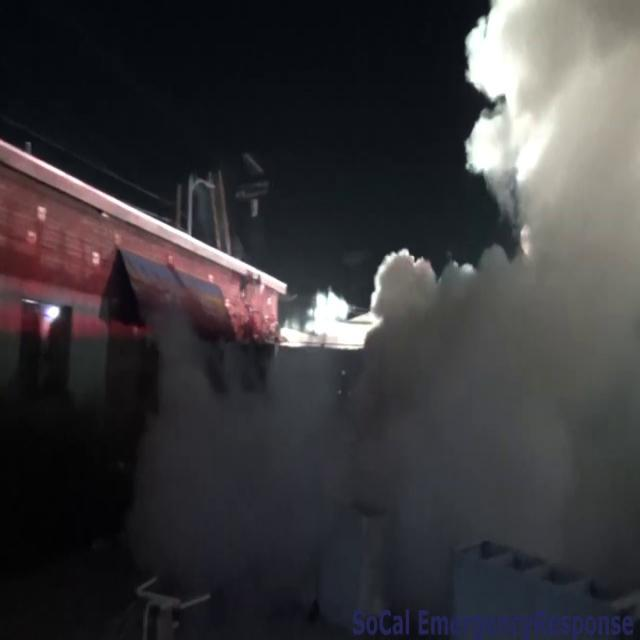Smoke: (96, 221, 638, 635), (458, 0, 640, 233)
